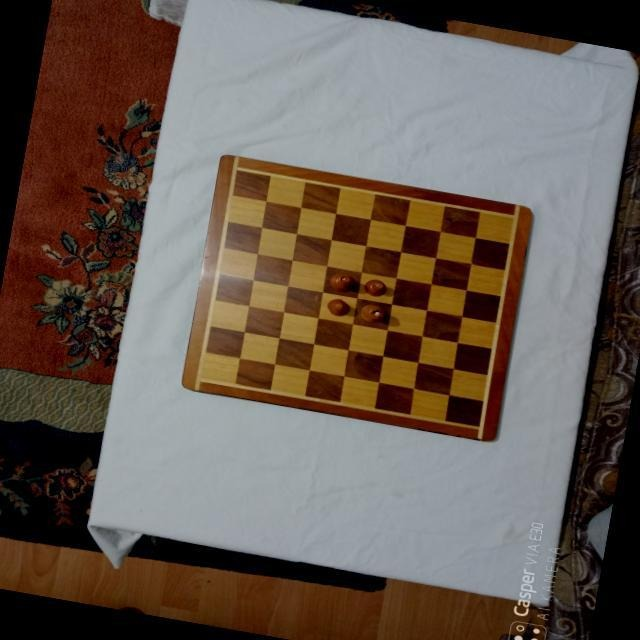white-bishop: (328, 269, 356, 292), (358, 301, 386, 323)
white-pawn: (324, 295, 351, 317), (360, 276, 387, 298)
